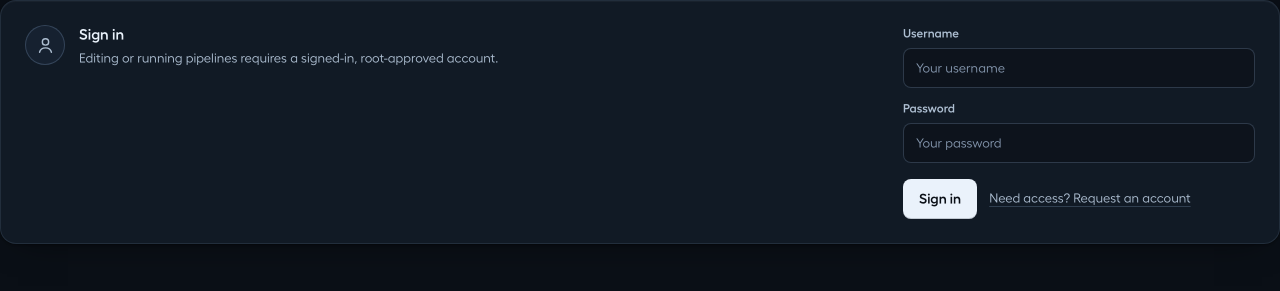
Test case: AdminAuthPanel › starts a server's refusal as a sentence
The width and height of the screenshot is (1280, 291).
In the field labelled "Username": (1079,68) [903,48,1255,88], type "nobody"
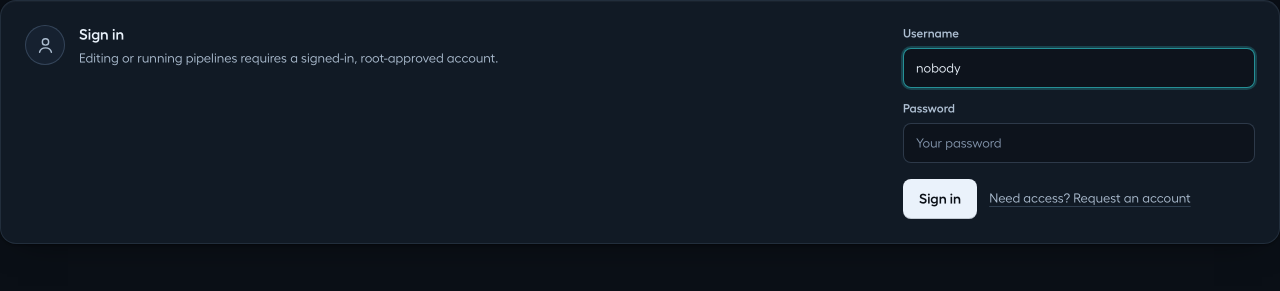
In the password field labelled "Password": (1079,143) [903,123,1255,163], type "wrong password"
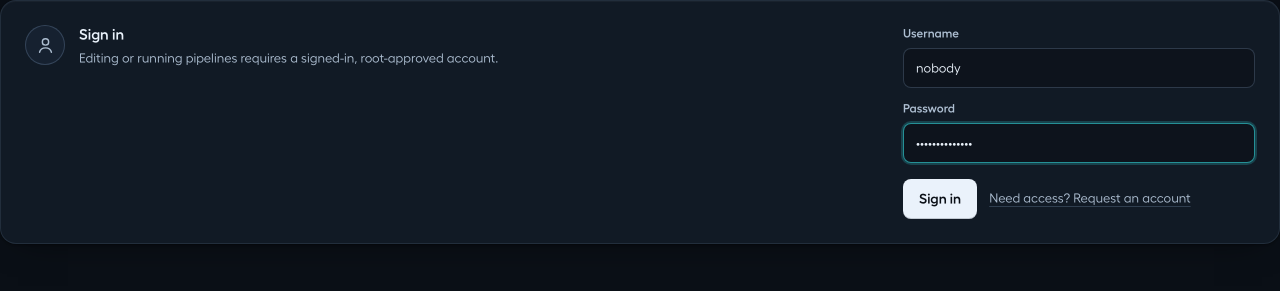
Click the button "Sign in": (940,199) [903,179,977,219]
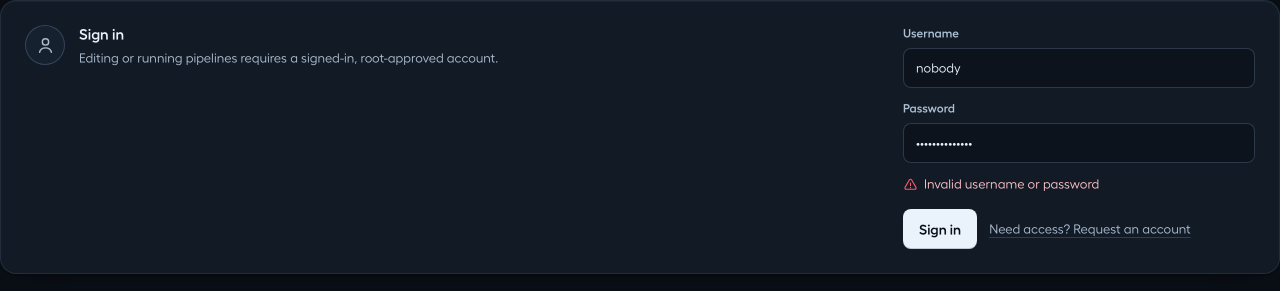
Now the message reads "Invalid username or password", box [924,177,1099,190]
